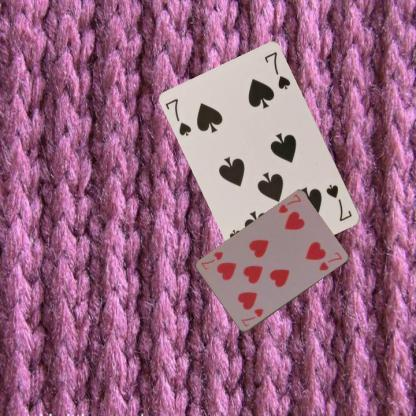7h: (275, 192, 302, 215), (238, 306, 264, 328)
7s: (163, 96, 193, 138), (324, 182, 354, 223)
